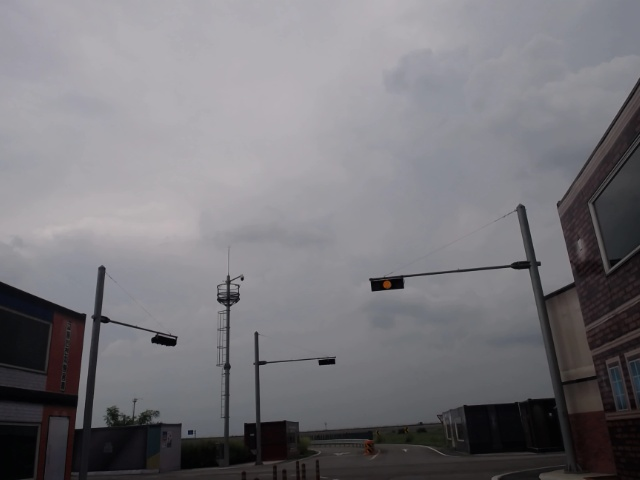orange_3: (370, 277, 404, 291)
